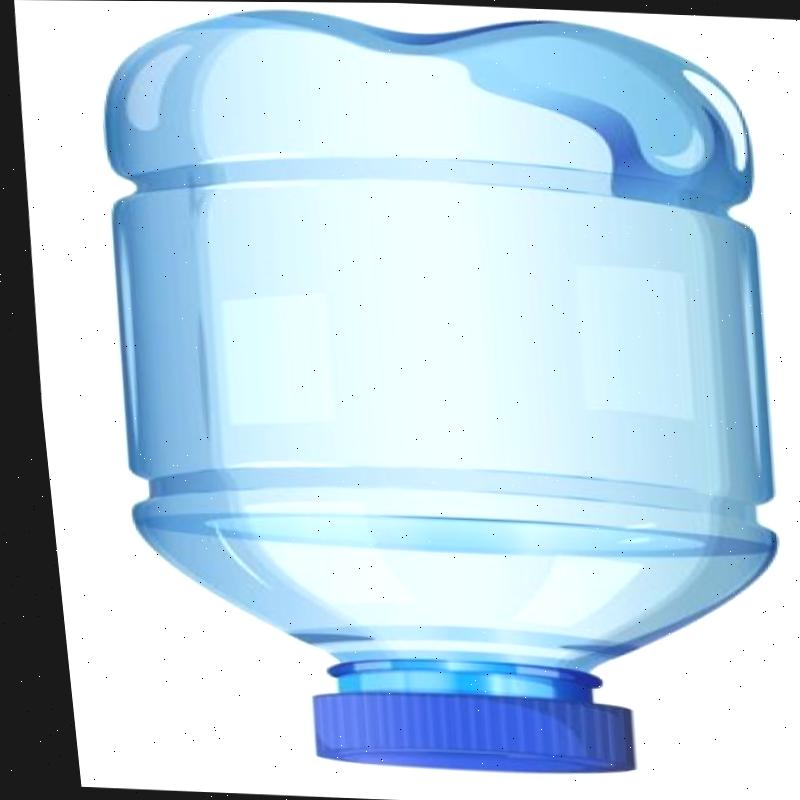botella: (61, 0, 800, 782)
